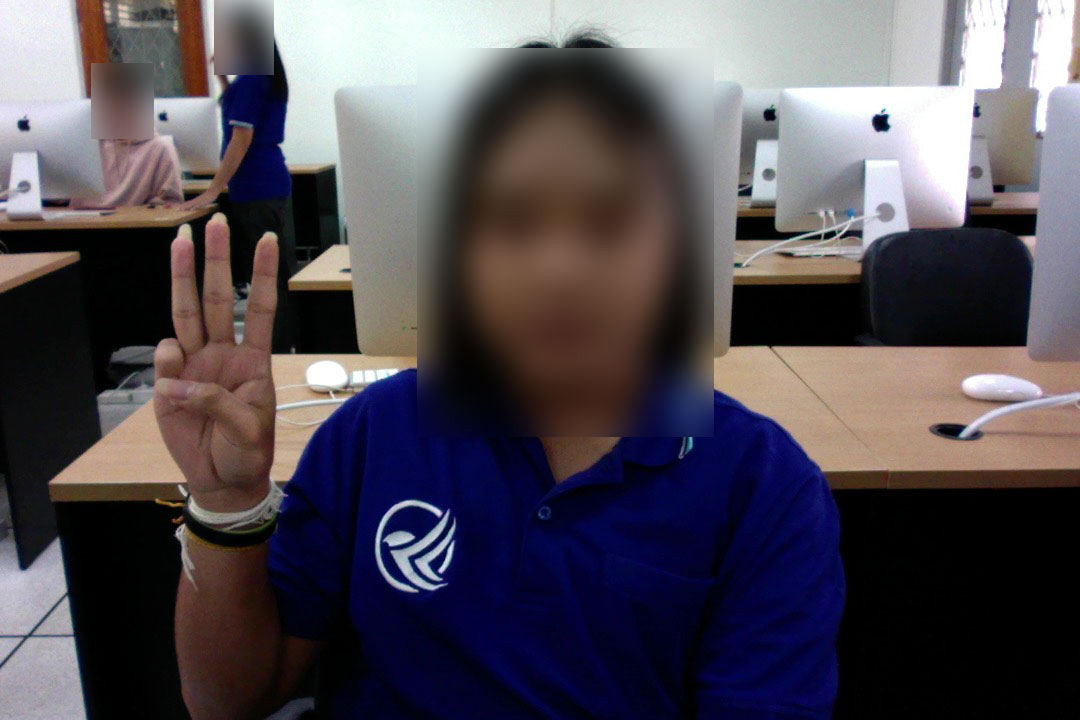wor: (143, 212, 293, 499)
